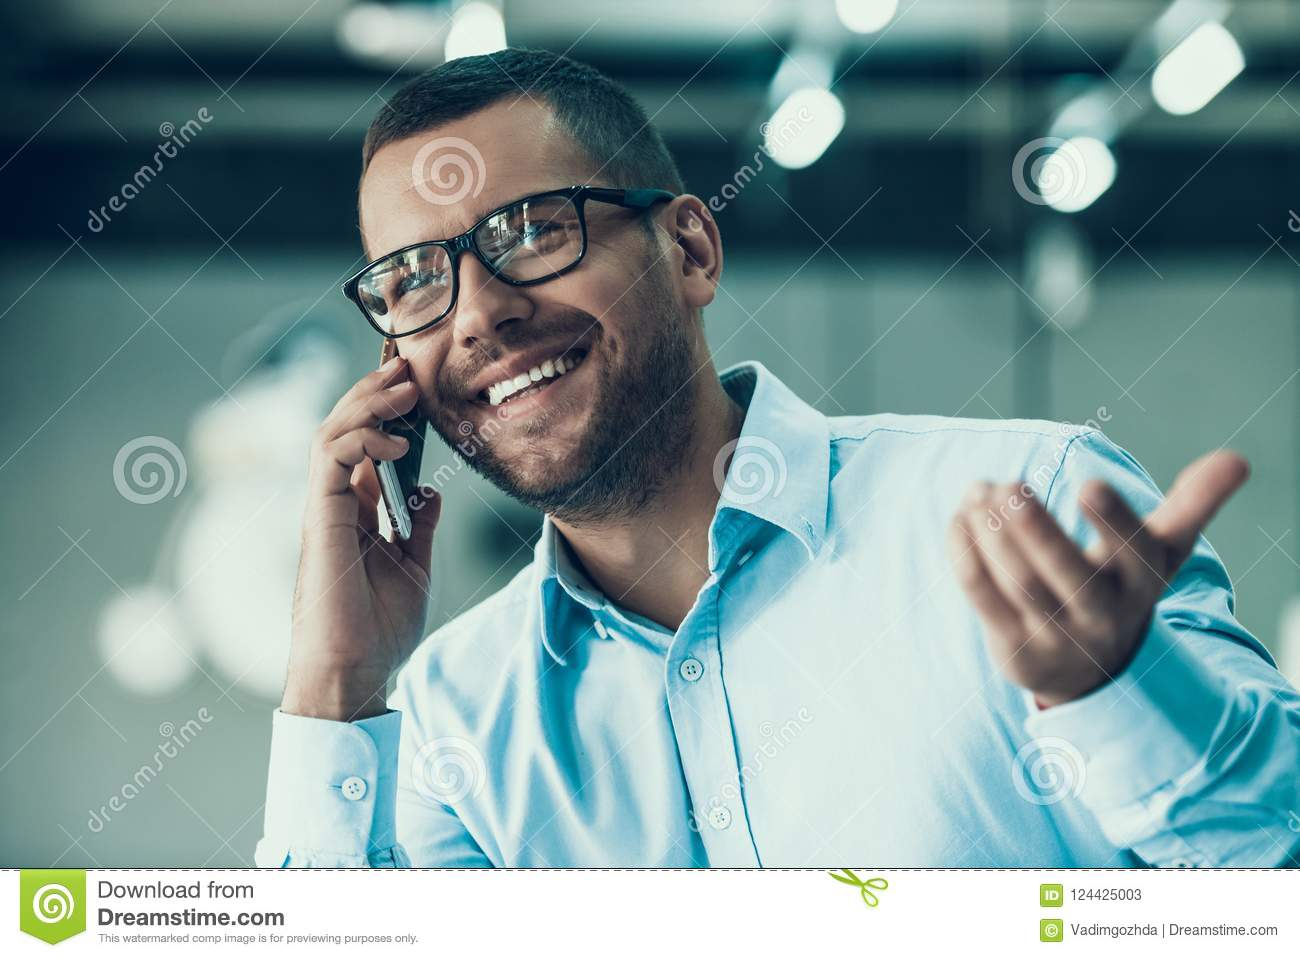phone: (366, 300, 433, 542)
talk: (290, 171, 638, 673)
